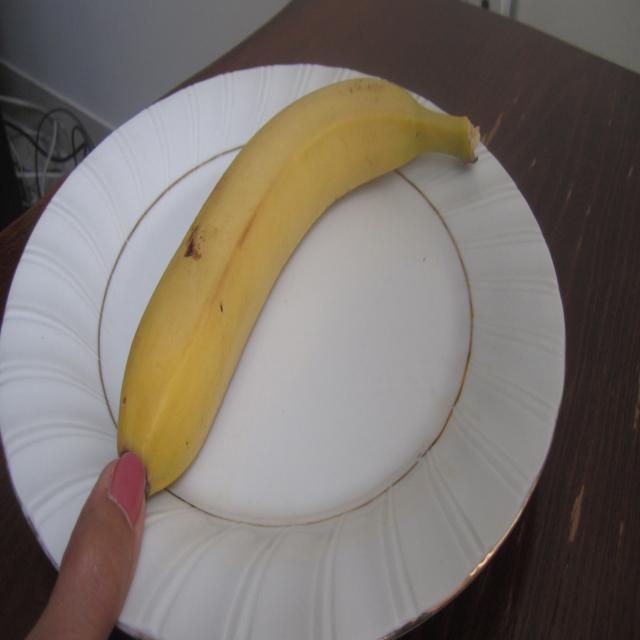Banana: (112, 65, 502, 452)
Finger: (58, 449, 150, 640)
